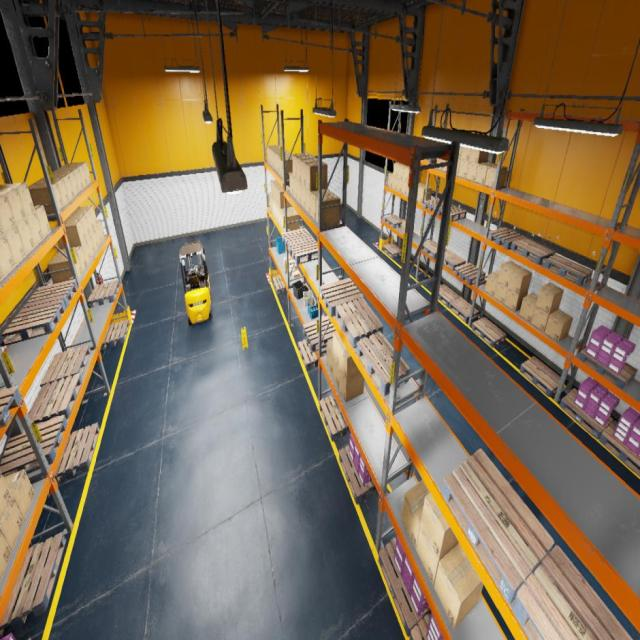box: (434, 543, 483, 629), (416, 523, 458, 585), (421, 492, 458, 560), (401, 479, 430, 549), (4, 470, 35, 521), (0, 497, 24, 552), (0, 182, 35, 217), (28, 183, 63, 213), (47, 253, 82, 283), (32, 178, 69, 206), (0, 188, 27, 226), (55, 219, 87, 249), (39, 174, 74, 201), (544, 310, 572, 342), (536, 282, 564, 314), (54, 246, 87, 273), (339, 368, 364, 402), (6, 226, 27, 266), (339, 343, 361, 381), (316, 194, 341, 227), (53, 167, 84, 192), (16, 218, 36, 256), (311, 189, 334, 221), (57, 164, 87, 188), (531, 306, 558, 332), (305, 161, 328, 191), (0, 235, 16, 278), (52, 171, 79, 196), (508, 267, 532, 295), (0, 194, 16, 235), (64, 214, 90, 239), (64, 162, 92, 185), (0, 530, 12, 582), (0, 471, 12, 522), (26, 212, 44, 246), (498, 260, 521, 286), (504, 288, 528, 312), (69, 210, 94, 233), (519, 292, 538, 322), (34, 205, 51, 238), (74, 205, 98, 227), (296, 156, 316, 182), (300, 159, 318, 187), (292, 153, 311, 179), (485, 165, 507, 187), (476, 162, 496, 185), (283, 210, 300, 231), (485, 272, 499, 297), (333, 332, 343, 366), (281, 207, 296, 229), (494, 282, 508, 304), (469, 148, 488, 164), (277, 188, 292, 208), (279, 154, 292, 177), (276, 152, 290, 173), (274, 150, 288, 171), (271, 149, 285, 168), (275, 185, 289, 204), (282, 157, 293, 180), (418, 186, 432, 203), (82, 240, 91, 266), (267, 145, 280, 163), (326, 340, 333, 373), (407, 168, 422, 183), (332, 355, 339, 387), (467, 161, 478, 181), (86, 235, 95, 259), (269, 147, 280, 166), (458, 159, 468, 178), (90, 229, 98, 252), (97, 219, 105, 241), (416, 183, 426, 200), (402, 219, 414, 233), (272, 182, 280, 202), (95, 224, 102, 246), (460, 146, 470, 161), (270, 180, 278, 198), (305, 187, 310, 215), (398, 164, 407, 179), (301, 183, 306, 209), (394, 162, 402, 178), (402, 166, 410, 181), (436, 158, 444, 171), (297, 180, 301, 204), (289, 172, 293, 196), (293, 177, 297, 200), (401, 180, 407, 195), (387, 173, 393, 187), (456, 158, 460, 176), (397, 178, 402, 192), (392, 176, 397, 190), (0, 221, 4, 238), (292, 270, 300, 278), (289, 262, 297, 270), (443, 160, 448, 172), (278, 206, 281, 224), (271, 196, 274, 213), (269, 192, 272, 209), (284, 256, 291, 263), (290, 268, 296, 276), (288, 258, 294, 266), (458, 146, 462, 158), (0, 267, 3, 281), (276, 202, 278, 221), (274, 200, 276, 217), (407, 182, 409, 195)
forklift: (180, 240, 212, 326)
pallets: (441, 448, 554, 604), (512, 545, 632, 639), (0, 532, 66, 638), (379, 536, 430, 636), (0, 414, 67, 476), (356, 332, 410, 396), (0, 299, 66, 346), (28, 373, 82, 424), (560, 388, 614, 439), (55, 423, 100, 483), (579, 346, 637, 388), (336, 297, 383, 348), (599, 420, 640, 477), (40, 344, 90, 386), (339, 446, 375, 504), (22, 279, 78, 309), (320, 278, 364, 316), (520, 356, 560, 397), (544, 254, 593, 286), (319, 394, 349, 441), (510, 238, 556, 264), (303, 316, 336, 352), (471, 318, 507, 348), (100, 319, 129, 351), (87, 280, 120, 308), (0, 386, 22, 428), (488, 227, 526, 250), (298, 339, 326, 370), (289, 238, 322, 264), (448, 297, 478, 323), (454, 263, 486, 285), (282, 228, 312, 251), (409, 610, 432, 639), (437, 204, 466, 222), (438, 284, 461, 306), (443, 249, 466, 271), (421, 240, 446, 260), (382, 243, 402, 258), (424, 198, 443, 213), (272, 276, 286, 295), (384, 215, 402, 228)
